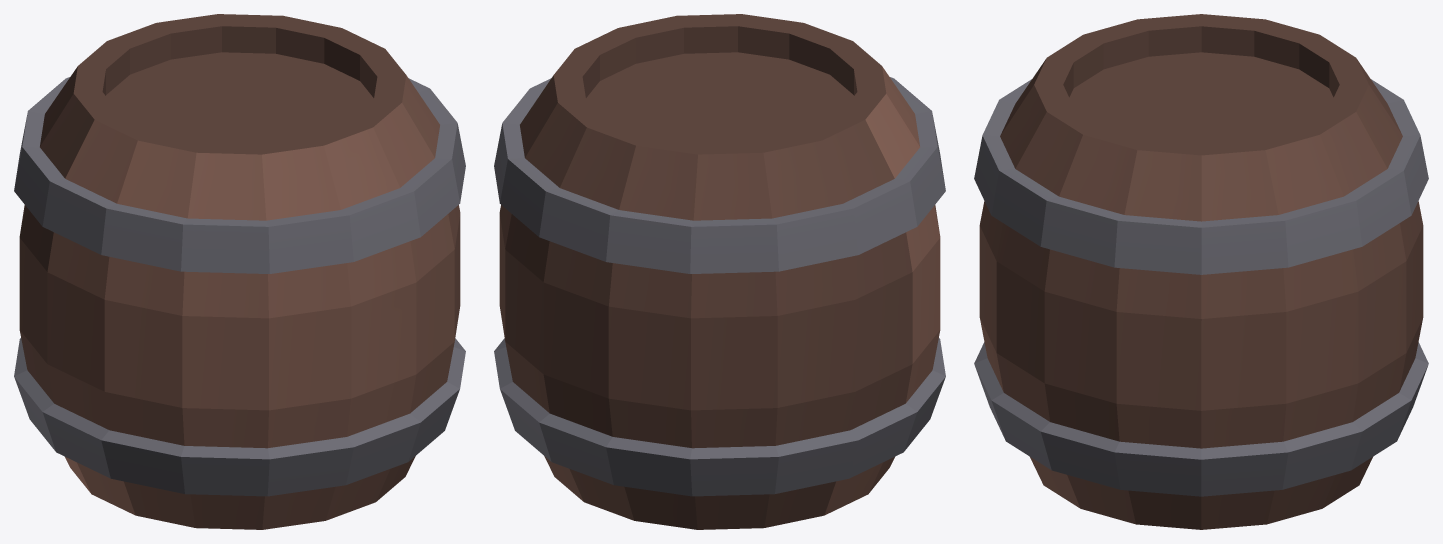
Rendered from barril_Misc_LoPo.fbx.
3 renders of one model, left to right at view 1: azimuth 30°, elevation 25°; view 2: azimuth 150°, elevation 25°; view 3: azimuth 270°, elevation 25°, orthographic.
Visible parts, largest first — view 1: barril_Misc_LoPo; view 2: barril_Misc_LoPo; view 3: barril_Misc_LoPo.
Boxes of the visible parts, bbox=[...] form: barril_Misc_LoPo: bbox=[14, 14, 465, 529]; barril_Misc_LoPo: bbox=[494, 14, 945, 529]; barril_Misc_LoPo: bbox=[974, 14, 1428, 529].
Bounding box in the file's own units: 243 × 220 × 243.
